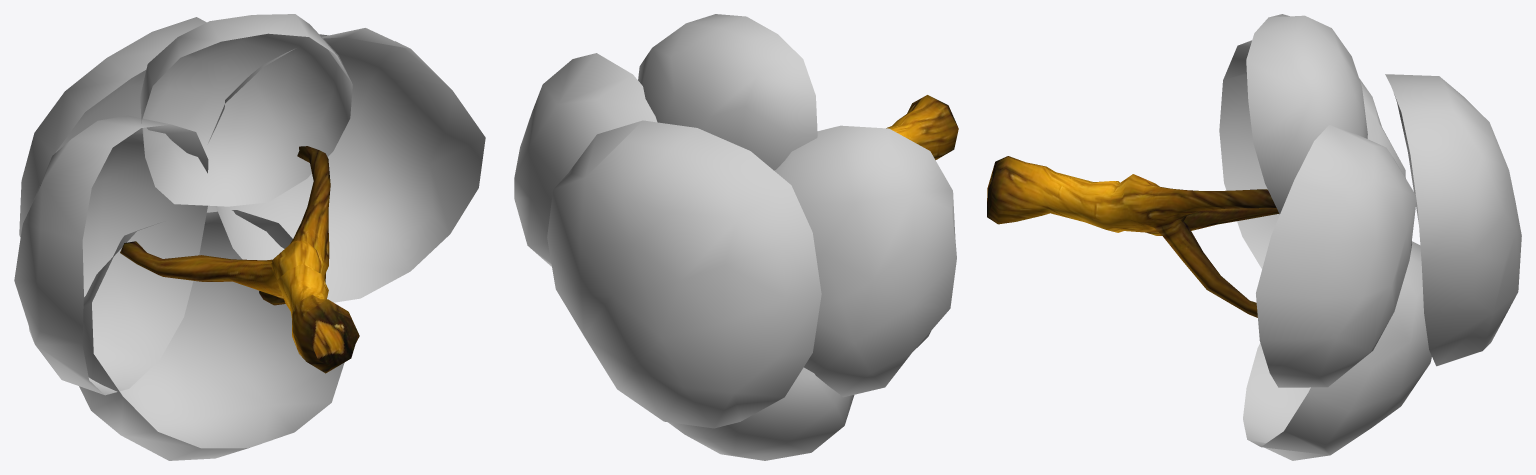
File: ARVORE02.fbx
3 views of the same model, side by side, from view 1: azimuth 30°, elevation 25°; view 2: azimuth 150°, elevation 25°; view 3: azimuth 270°, elevation 25° (orthographic). The views are drawn at different scales.
Visible parts, largest first — view 1: tree02; view 2: tree02; view 3: tree02.
Boxes of the visible parts, x1=… form: tree02: x1=14, y1=14, x2=485, y2=460; tree02: x1=514, y1=14, x2=958, y2=460; tree02: x1=987, y1=14, x2=1521, y2=460.
Size of the model in its own units: 377 by 351 by 399.
